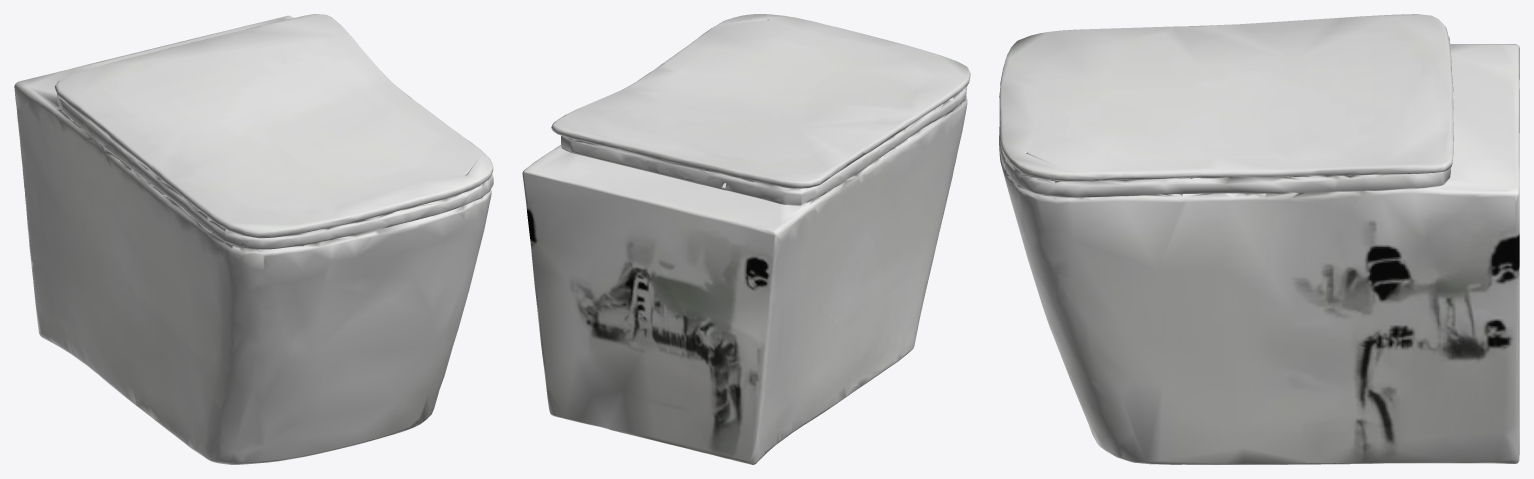
File: 5ertmat9-95EojMdprgWA.glb
3 views of the same model, side by side, from view 1: azimuth 30°, elevation 25°; view 2: azimuth 150°, elevation 25°; view 3: azimuth 270°, elevation 25° (orthographic). The views are drawn at different scales.
Visible parts, largest first — view 1: geometry_0; view 2: geometry_0; view 3: geometry_0.
Part boxes in pixels (box(x1,y1,x2,y2)): geometry_0: box(14, 14, 493, 464); geometry_0: box(522, 14, 970, 464); geometry_0: box(999, 14, 1519, 464).
Bounding box in the file's own units: 0.697 × 0.6767 × 1.
Materials: 1 (1 with a texture image).
